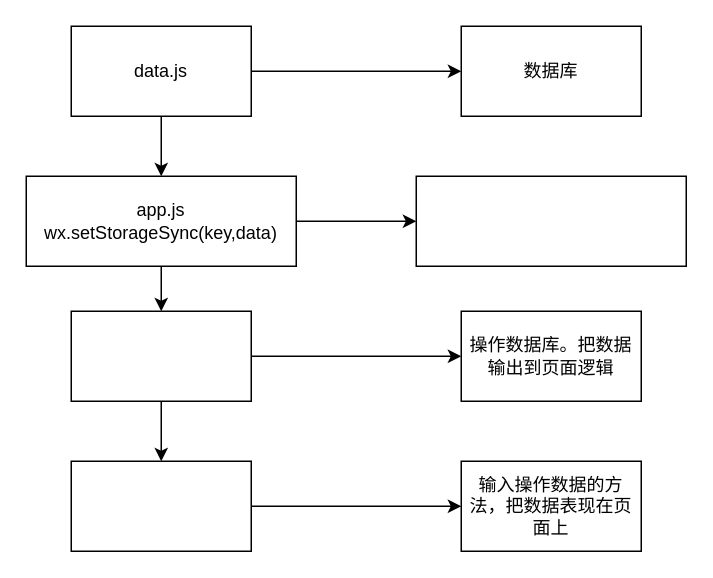
This 713x578 diagram has some shape labels left out. Each missing label, with the centre of its shape:
DBPost.js: the point at 160,355
post.js: the point at 160,505
把数据库设置缓存数据库: the point at 550,220
